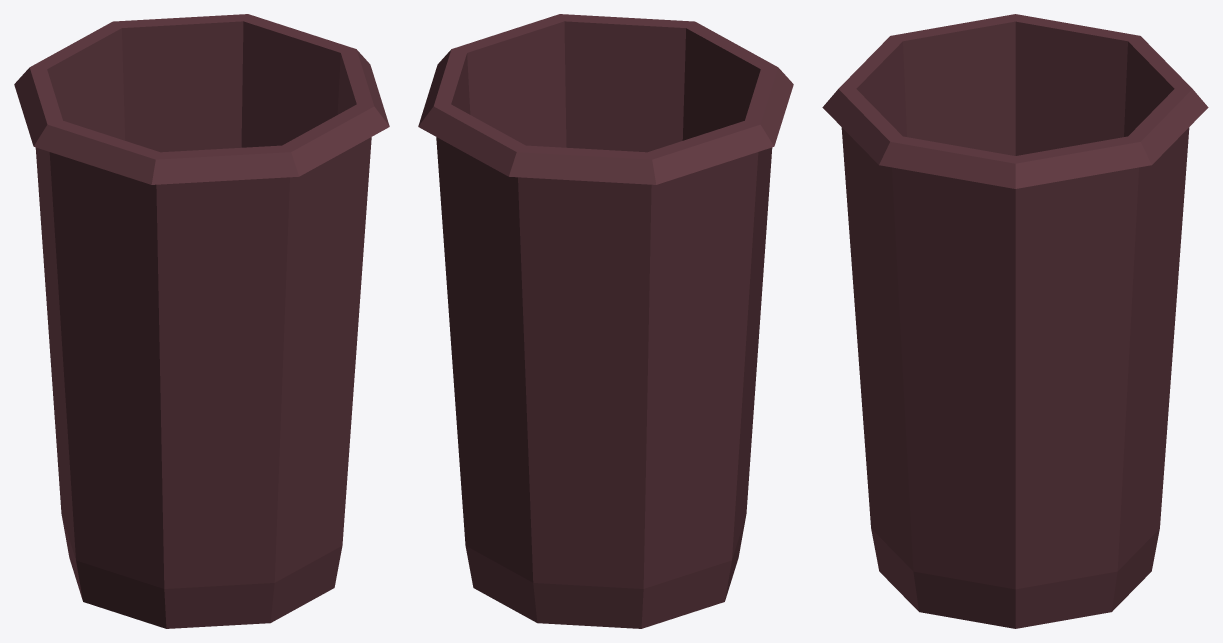
The model's file is cup-plastic-red.fbx.
3 renders of one model, left to right at view 1: azimuth 30°, elevation 25°; view 2: azimuth 150°, elevation 25°; view 3: azimuth 270°, elevation 25°, orthographic.
Visible parts, largest first — view 1: cup-plastic-red; view 2: cup-plastic-red; view 3: cup-plastic-red.
Boxes of the visible parts, x1=… form: cup-plastic-red: x1=14, y1=14, x2=389, y2=628; cup-plastic-red: x1=418, y1=14, x2=793, y2=628; cup-plastic-red: x1=822, y1=14, x2=1208, y2=628.
Bounding box in the file's own units: 0.1094 × 0.1508 × 0.1094.
